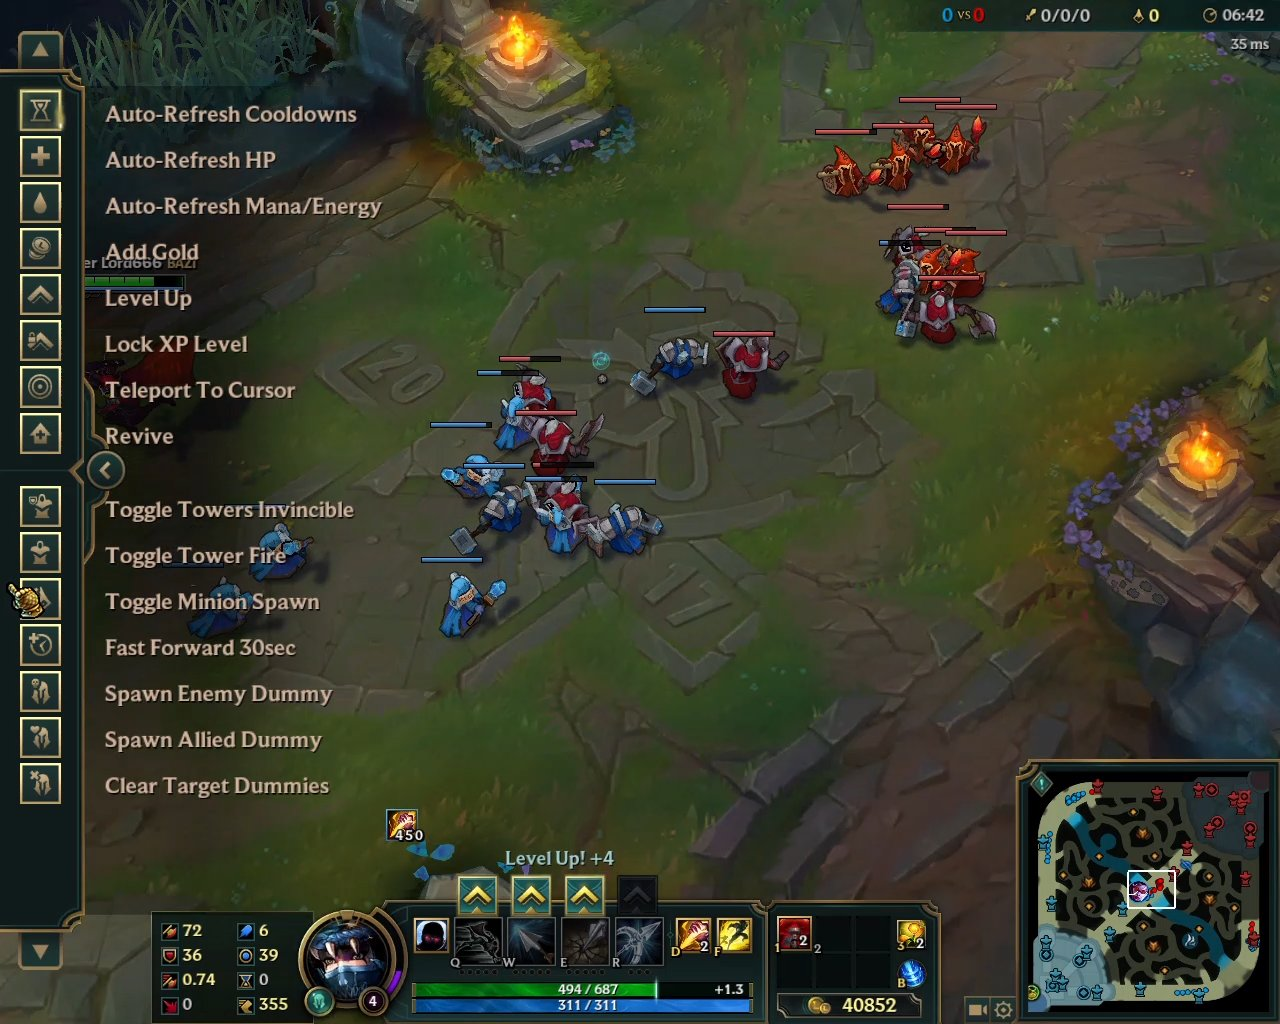EnemyMinion: (898, 276, 997, 348), (708, 331, 790, 402), (920, 230, 1008, 294), (523, 410, 608, 474), (921, 104, 997, 176), (813, 127, 883, 201), (865, 123, 934, 192), (494, 354, 568, 412)
